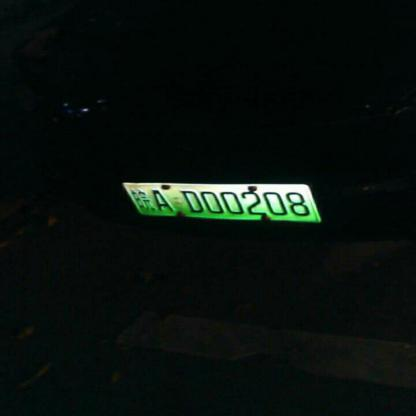lp: (123, 182, 319, 221)
